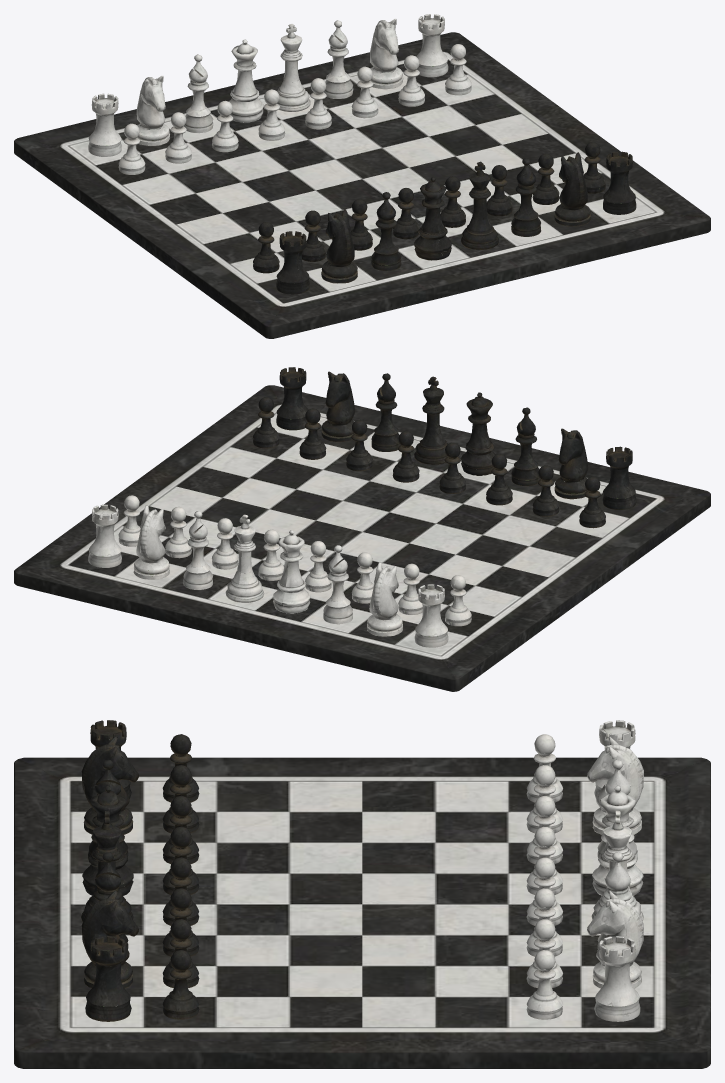
Rendered from chess_set.glb.
3 renders of one model, top to bottom at view 1: azimuth 30°, elevation 25°; view 2: azimuth 150°, elevation 25°; view 3: azimuth 270°, elevation 25°, orthographic. The views are drawn at different scales.
Visible parts, largest first — view 1: board, piece_queen_black, piece_knight_black_01, piece_knight_black_02, piece_queen_white, piece_knight_white_01, piece_knight_white_02, piece_king_black, piece_king_white, piece_rook_black_01, piece_rook_black_02, piece_rook_white_02 (+21 smaller); view 2: board, piece_queen_white, piece_knight_white_02, piece_knight_white_01, piece_queen_black, piece_knight_black_02, piece_knight_black_01, piece_king_white, piece_king_black, piece_rook_white_02, piece_rook_white_01, piece_rook_black_01 (+21 smaller); view 3: board, piece_rook_white_01, piece_rook_black_02, piece_knight_black_02, piece_knight_white_01, piece_knight_white_02, piece_knight_black_01, piece_queen_white, piece_queen_black, piece_pawn_white_01, piece_pawn_black_08, piece_king_black (+21 smaller).
Boxes of the visible parts, x1,y1,x2,y2 form: board: (14, 32, 710, 338); piece_queen_black: (414, 177, 451, 260); piece_knight_black_01: (321, 209, 357, 283); piece_knight_black_02: (554, 152, 590, 226); piece_queen_white: (228, 39, 263, 122); piece_knight_white_01: (370, 18, 403, 89); piece_knight_white_02: (136, 75, 169, 145); piece_king_black: (461, 161, 499, 249); piece_king_white: (277, 24, 310, 111); piece_rook_black_01: (276, 231, 309, 294); piece_rook_black_02: (603, 151, 636, 214); piece_rook_white_02: (88, 93, 121, 156); board: (14, 385, 710, 691); piece_queen_white: (272, 530, 310, 613); piece_knight_white_02: (367, 562, 402, 636); piece_knight_white_01: (133, 505, 169, 579); piece_queen_black: (461, 392, 496, 475); piece_knight_black_02: (321, 371, 354, 442); piece_knight_black_01: (554, 428, 588, 499); piece_king_white: (225, 514, 264, 602); piece_king_black: (414, 376, 447, 464); piece_rook_white_02: (414, 584, 448, 647); piece_rook_white_01: (88, 504, 121, 567); piece_rook_black_01: (602, 446, 636, 509); board: (14, 757, 710, 1068); piece_rook_white_01: (594, 936, 640, 1021); piece_rook_black_02: (85, 936, 131, 1021); piece_knight_black_02: (81, 890, 138, 988); piece_knight_white_01: (587, 891, 643, 988); piece_knight_white_02: (587, 736, 643, 834); piece_knight_black_01: (81, 736, 138, 834); piece_queen_white: (592, 785, 643, 895); piece_queen_black: (82, 785, 133, 895); piece_pawn_white_01: (526, 950, 562, 1019); piece_pawn_black_08: (162, 950, 199, 1019); piece_king_black: (81, 810, 133, 921).
Bounding box in the file's own units: 0.5532 × 0.1121 × 0.5532.
Materials: 3 (3 with a texture image).
